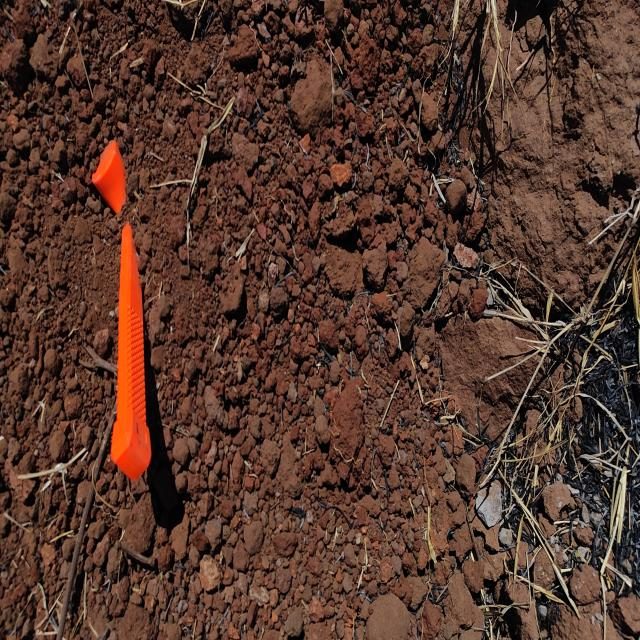Orange_hammer: (109, 221, 152, 482), (90, 136, 136, 224)
